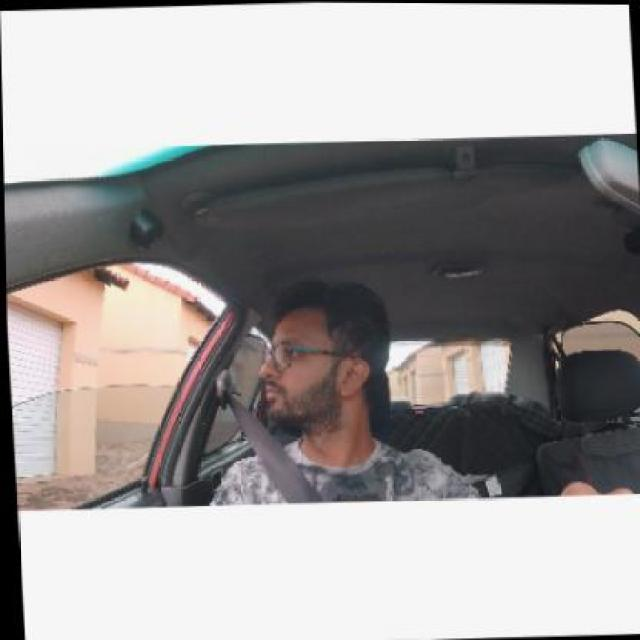LeftRight: (252, 266, 404, 470)
